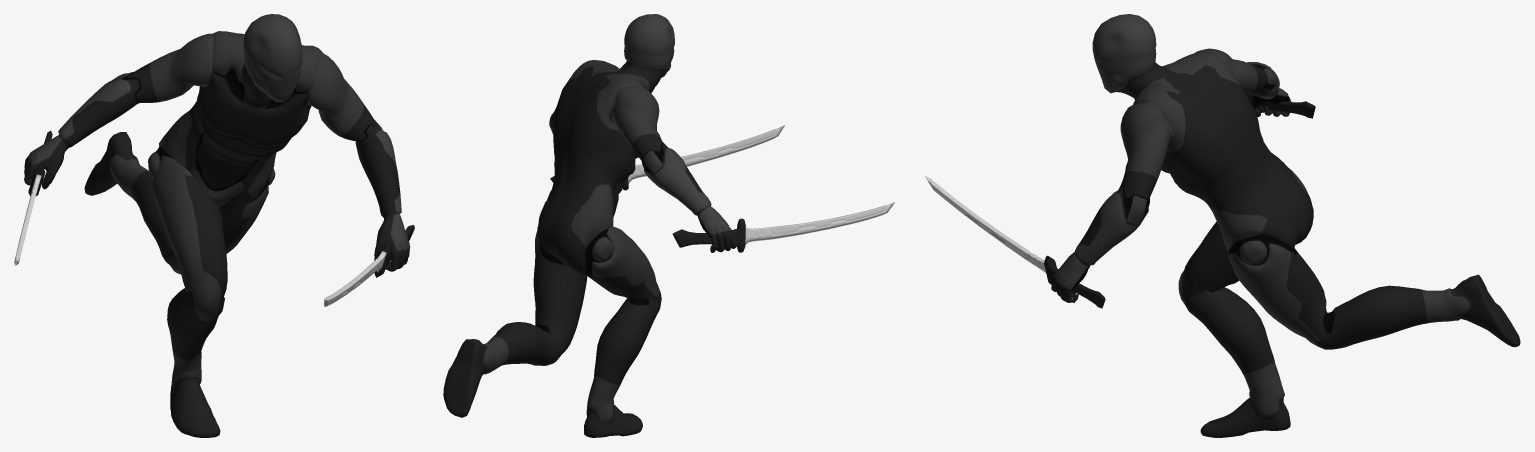
3 views of the same model, side by side, from view 1: azimuth 30°, elevation 25°; view 2: azimuth 150°, elevation 25°; view 3: azimuth 270°, elevation 25° (orthographic). The views are drawn at different scales.
Visible parts, largest first — view 1: Cyborg_Ninja_Killer, Sword_l, Sword_l001; view 2: Cyborg_Ninja_Killer, Sword_l001, Sword_l; view 3: Cyborg_Ninja_Killer, Sword_l, Sword_l001.
Boxes of the visible parts, x1,y1,x2,y2 form: Cyborg_Ninja_Killer: (24,14,410,437); Sword_l: (324,225,414,306); Sword_l001: (14,130,52,265); Cyborg_Ninja_Killer: (443,14,736,437); Sword_l001: (672,202,894,252); Sword_l: (550,125,784,190); Cyborg_Ninja_Killer: (1051,14,1520,437); Sword_l: (924,175,1105,308); Sword_l001: (1247,94,1315,118).
Bounding box in the file's own units: 144 × 152 × 193.
2 materials, 2 textured.
